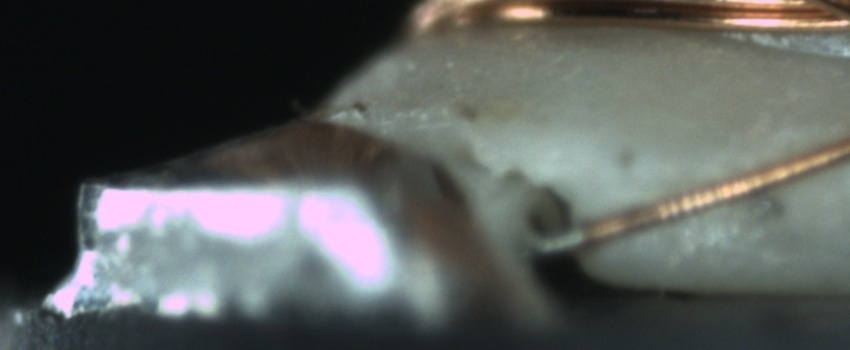TS: (532, 224, 588, 256)
